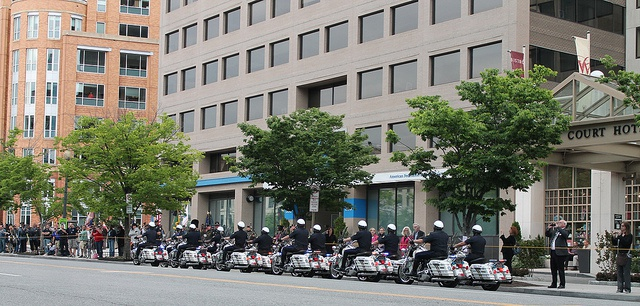non-vehicle: (449, 245, 513, 291), (394, 242, 455, 286), (328, 240, 380, 281), (269, 239, 323, 276), (169, 230, 212, 269), (214, 239, 256, 272), (130, 236, 164, 267), (371, 252, 401, 284), (259, 252, 272, 273), (254, 252, 263, 271)
